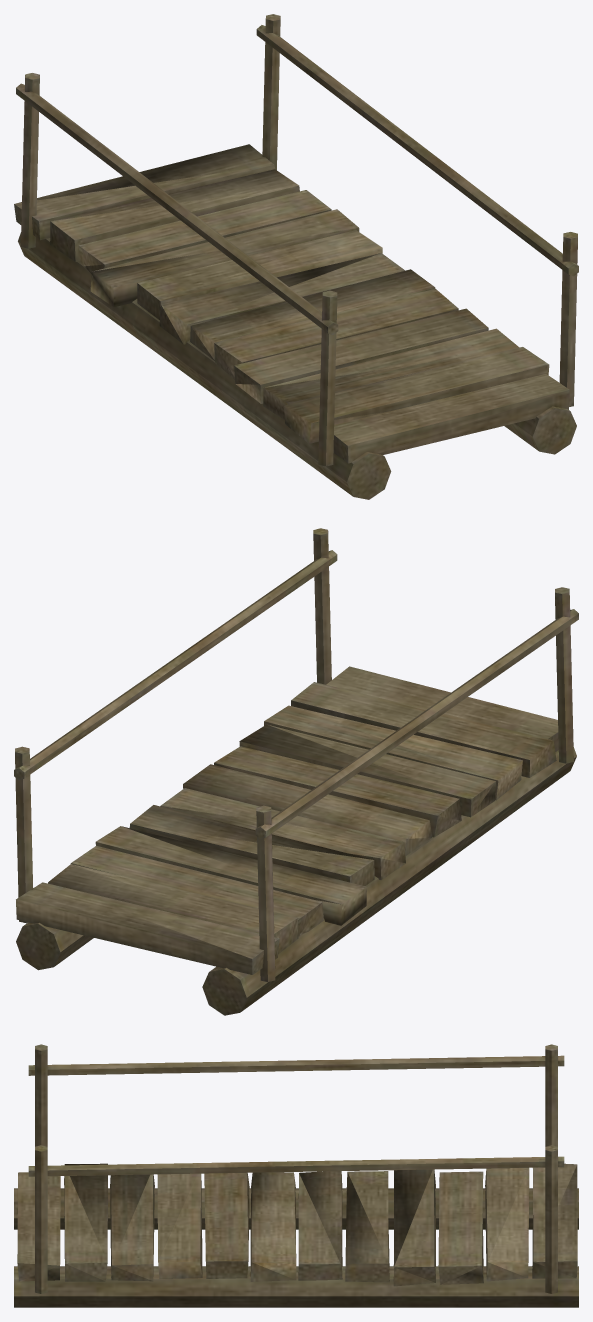
Rendered from Wooden_Bridge.glb.
The picture shows the model from 3 angles, top to bottom: view 1: azimuth 30°, elevation 25°; view 2: azimuth 150°, elevation 25°; view 3: azimuth 270°, elevation 25°; orthographic projection. The views are drawn at different scales.
Parts seen in each view (by area): view 1: Wooden_Bridge; view 2: Wooden_Bridge; view 3: Wooden_Bridge.
Boxes of the visible parts, x1=… form: Wooden_Bridge: x1=14, y1=14, x2=578, y2=499; Wooden_Bridge: x1=14, y1=528, x2=578, y2=1015; Wooden_Bridge: x1=14, y1=1044, x2=578, y2=1307.
Size of the model in its own units: 1.23 by 0.9059 by 2.7.
1 material, 1 textured.
